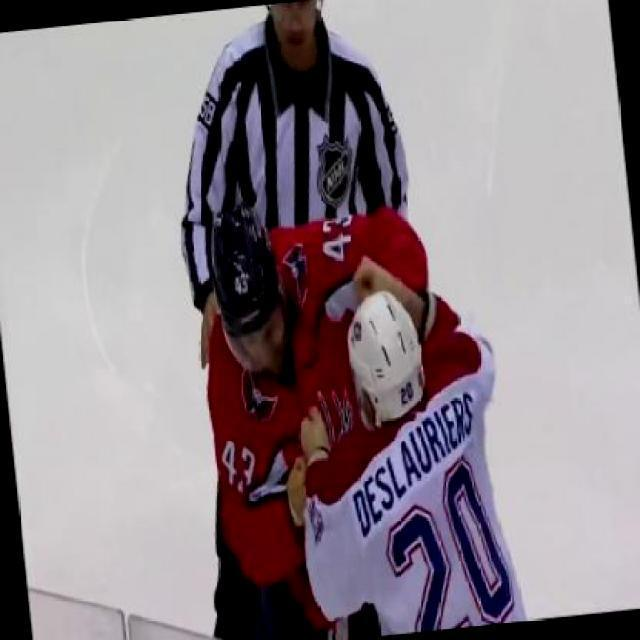fight: (178, 176, 530, 638)
